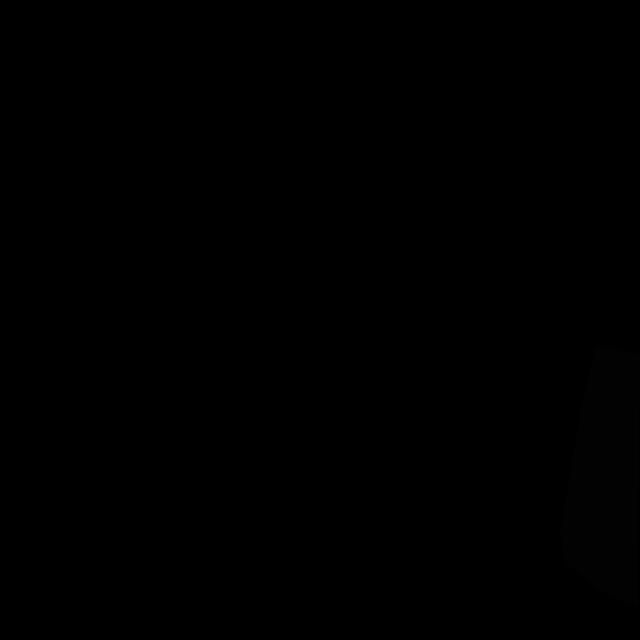cardboard: (560, 345, 640, 607)
